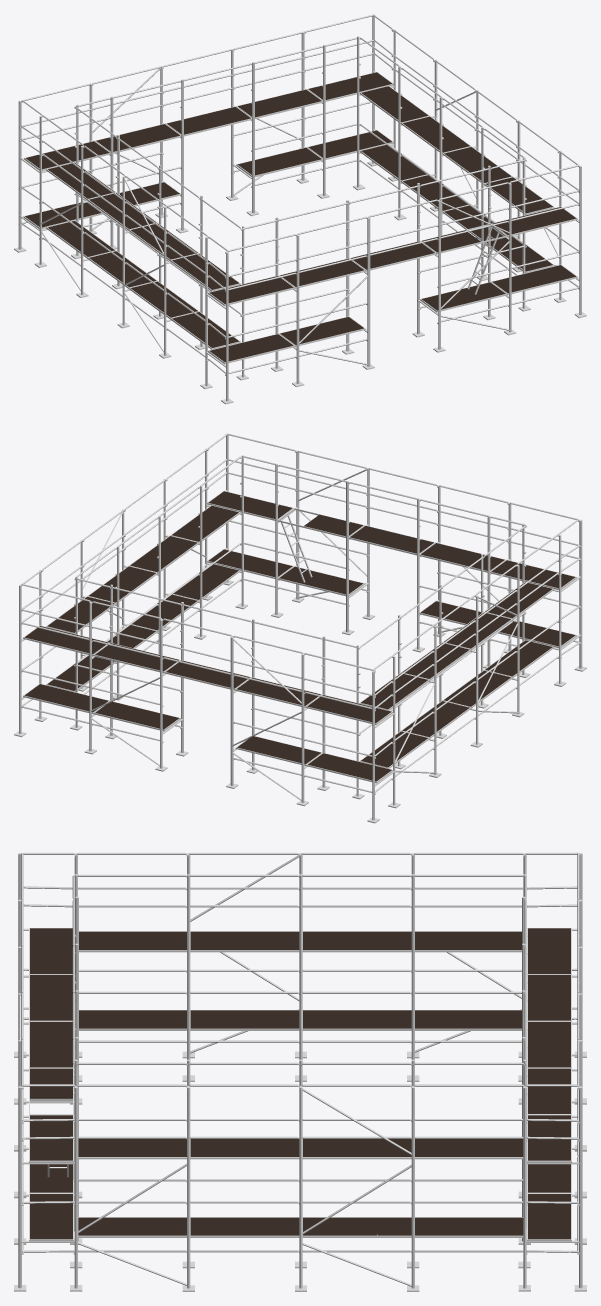
File: House_Bottom_Geruest_Anim.glb
3 renders of one model, top to bottom at view 1: azimuth 30°, elevation 25°; view 2: azimuth 150°, elevation 25°; view 3: azimuth 270°, elevation 25°, orthographic. The views are drawn at different scales.
Visible parts, largest first — view 1: Geruest_klein.001; view 2: Geruest_klein.001; view 3: Geruest_klein.001.
Part boxes in pixels (x1,y1,x2,y2): Geruest_klein.001: (14,14,586,404); Geruest_klein.001: (14,433,586,823); Geruest_klein.001: (14,852,586,1291).
Bounding box in the file's own units: 13.42 × 5.36 × 13.6.
